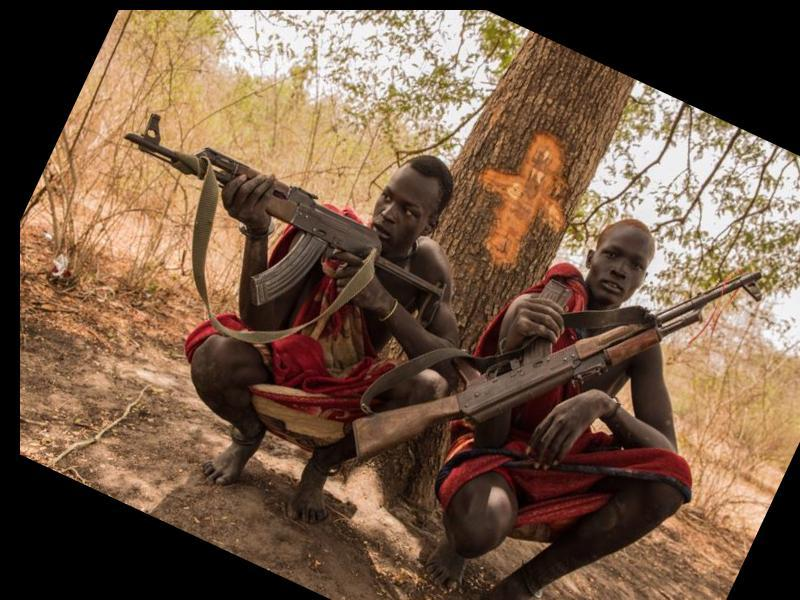larga: (349, 269, 765, 467), (123, 111, 448, 308)
